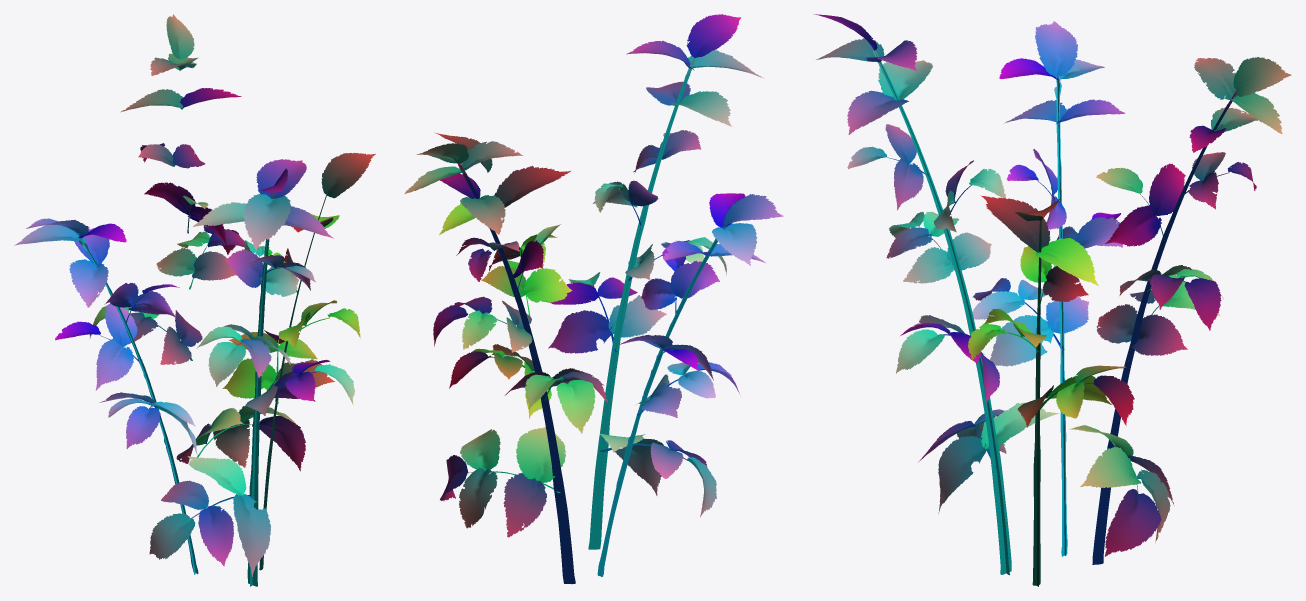
Rendered from Raspberry_wf0oefeja_Raw_wf0oefeja_VarA_LOD0.fbx.
3 views of the same model, side by side, from view 1: azimuth 30°, elevation 25°; view 2: azimuth 150°, elevation 25°; view 3: azimuth 270°, elevation 25° (orthographic). The views are drawn at different scales.
Visible parts, largest first — view 1: _fy53_VarA_High; view 2: _fy53_VarA_High; view 3: _fy53_VarA_High.
Boxes of the visible parts, x1,y1,x2,y2 form: _fy53_VarA_High: [14, 14, 375, 586]; _fy53_VarA_High: [404, 14, 783, 584]; _fy53_VarA_High: [814, 14, 1291, 586].
Size of the model in its own units: 29.23 by 38.5 by 31.17.
